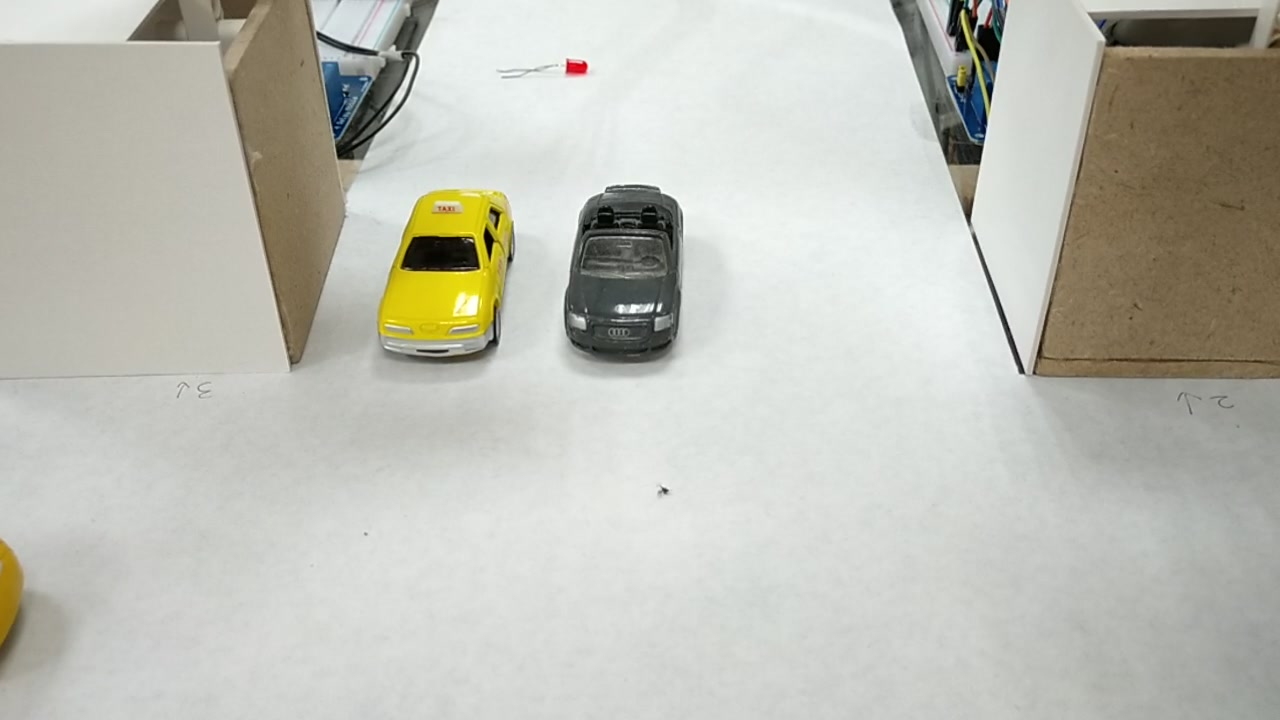car: (380, 192, 505, 357), (569, 185, 678, 356)
